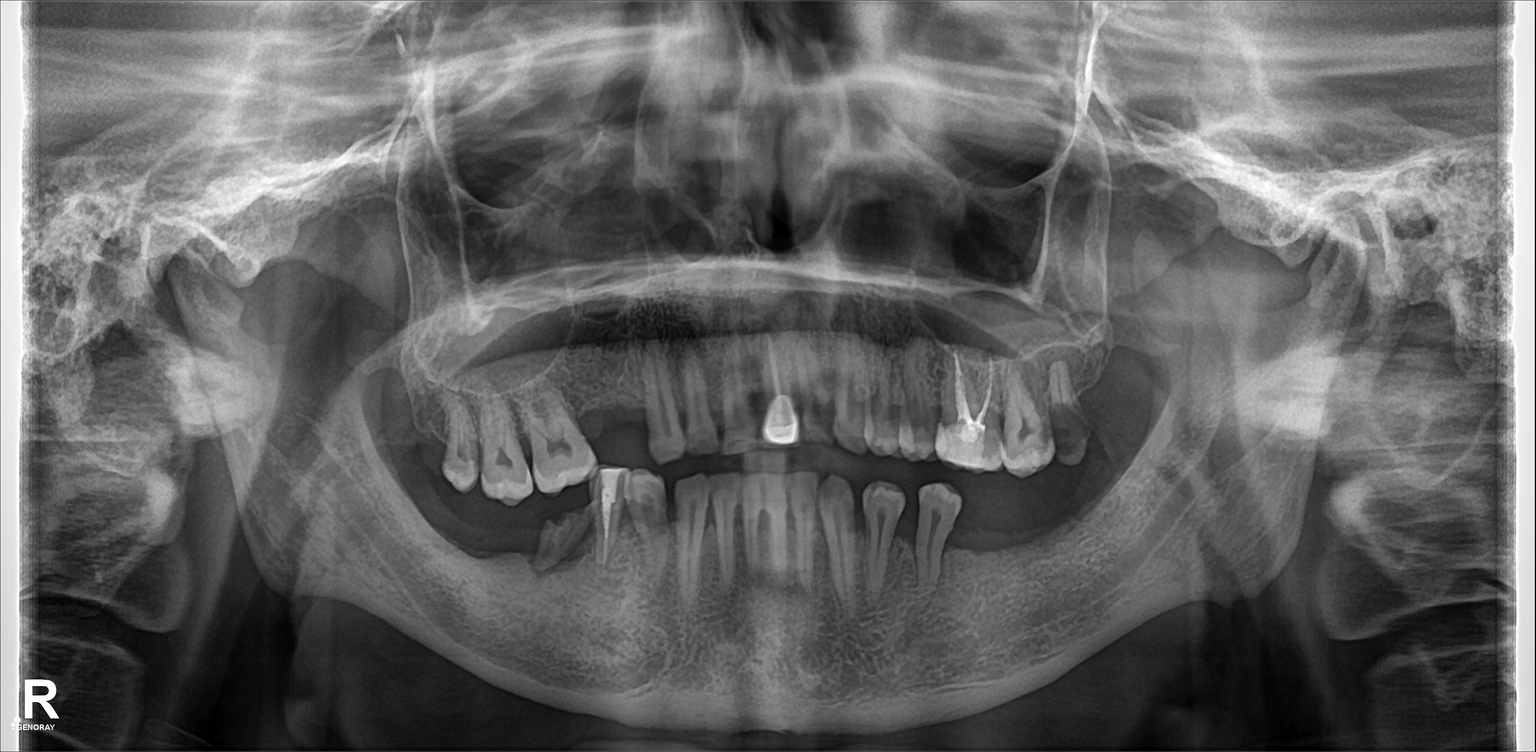Dental Caries: (1050, 408, 1086, 454)
Endodontically Treated Tooth: (946, 365, 1003, 460), (752, 335, 797, 445)
Missing Tooth: (981, 493, 1043, 605), (583, 376, 648, 462), (397, 382, 451, 478), (1052, 493, 1092, 596), (399, 493, 444, 581), (484, 501, 524, 597), (451, 497, 483, 608), (955, 482, 982, 594)
Retained Root: (536, 497, 594, 594)
